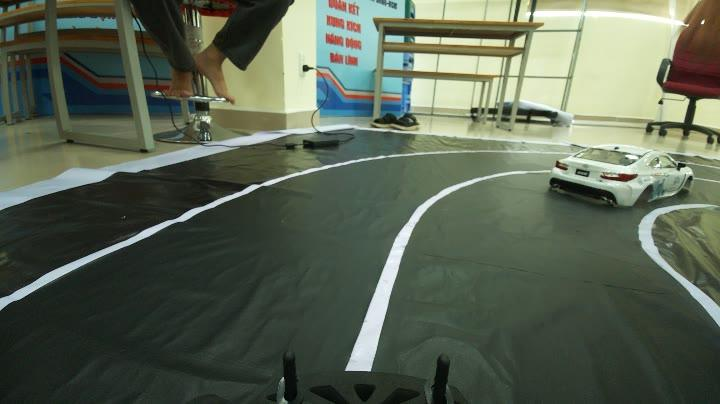car: (548, 122, 710, 217)
